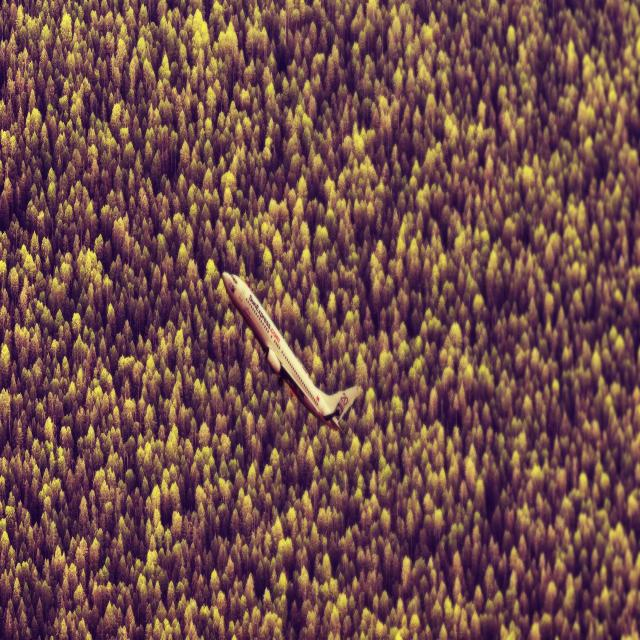airplane: (222, 270, 362, 434)
